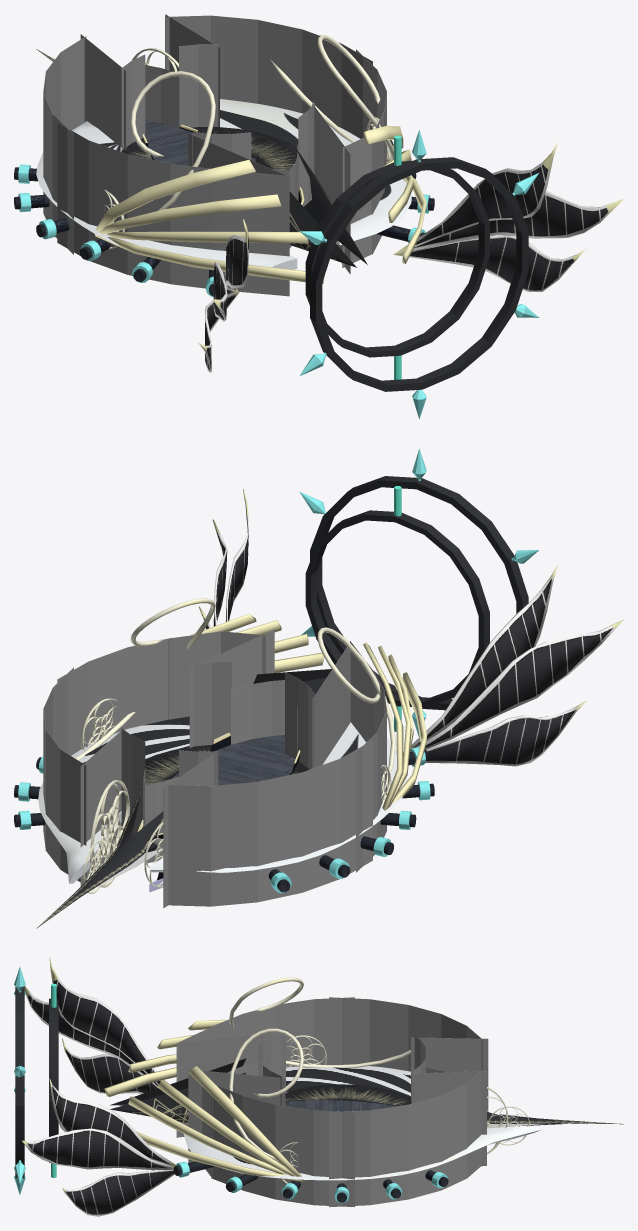
Rendered from stage06.FBX.
3 renders of one model, top to bottom at view 1: azimuth 30°, elevation 25°; view 2: azimuth 150°, elevation 25°; view 3: azimuth 270°, elevation 25°, orthographic. The views are drawn at different scales.
Parts seen in each view (by area): view 1: Object03, wheel2, ground03, Object02, wheel, wall080, wall064, wall063, wall083, wall067, wall081, wall084 (+23 smaller); view 2: Object03, Object02, wheel2, ground03, wall069, wheel, wall068, wall070, wall071, ground01, wall076, wall079 (+25 smaller); view 3: Object03, ground03, Object02, wall065, wall064, wall077, wall079, wall078, wall066, wall071, wall067, wall063 (+20 smaller).
Boxes of the visible parts, x1=… form: Object03: x1=94, y1=35, x2=623, y2=372; wheel2: x1=299, y1=130, x2=539, y2=418; ground03: x1=36, y1=99, x2=411, y2=269; Object02: x1=14, y1=49, x2=434, y2=296; wheel: x1=305, y1=135, x2=489, y2=379; wall080: x1=212, y1=172, x2=289, y2=296; wall064: x1=258, y1=20, x2=302, y2=113; wall063: x1=211, y1=15, x2=257, y2=103; wall083: x1=88, y1=140, x2=127, y2=274; wall067: x1=80, y1=34, x2=126, y2=150; wall081: x1=170, y1=164, x2=216, y2=288; wall084: x1=57, y1=122, x2=88, y2=255; Object03: x1=75, y1=489, x2=623, y2=818; Object02: x1=14, y1=669, x2=434, y2=928; wheel2: x1=299, y1=448, x2=538, y2=737; ground03: x1=38, y1=716, x2=407, y2=883; wall069: x1=211, y1=782, x2=257, y2=906; wheel: x1=305, y1=486, x2=489, y2=731; wall068: x1=165, y1=784, x2=210, y2=906; wall070: x1=258, y1=772, x2=302, y2=902; wall071: x1=302, y1=758, x2=341, y2=892; ground01: x1=137, y1=733, x2=300, y2=892; wall076: x1=128, y1=638, x2=170, y2=728; wall079: x1=312, y1=642, x2=350, y2=768; Object03: x1=22, y1=957, x2=410, y2=1216; ground03: x1=183, y1=1065, x2=541, y2=1180; Object02: x1=110, y1=1058, x2=623, y2=1203; wall065: x1=370, y1=1104, x2=408, y2=1205; wall064: x1=408, y1=1095, x2=441, y2=1199; wall077: x1=275, y1=1104, x2=313, y2=1205; wall079: x1=179, y1=1032, x2=285, y2=1137; wall078: x1=313, y1=1110, x2=354, y2=1207; wall066: x1=329, y1=1110, x2=369, y2=1207; wall071: x1=370, y1=999, x2=408, y2=1070; wall067: x1=411, y1=1037, x2=488, y2=1110; wall063: x1=441, y1=1084, x2=466, y2=1189.
Size of the model in its own units: 1181 by 796 by 1923.
5 materials, 4 textured.
